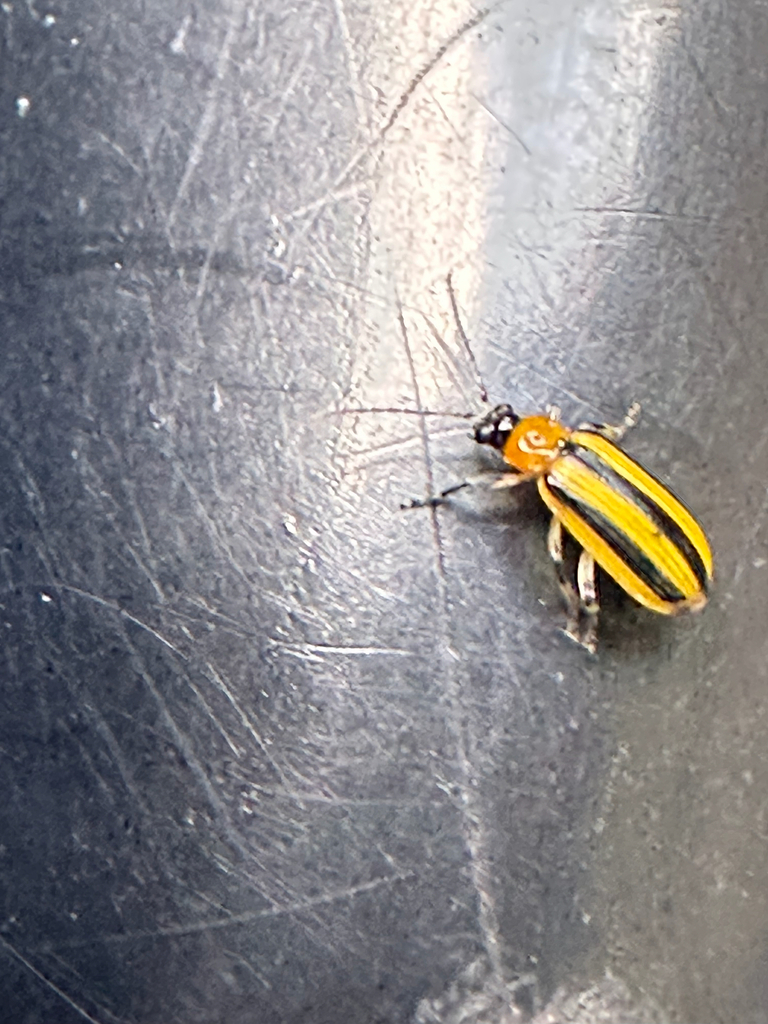potato_beetle: (260, 201, 768, 753)
